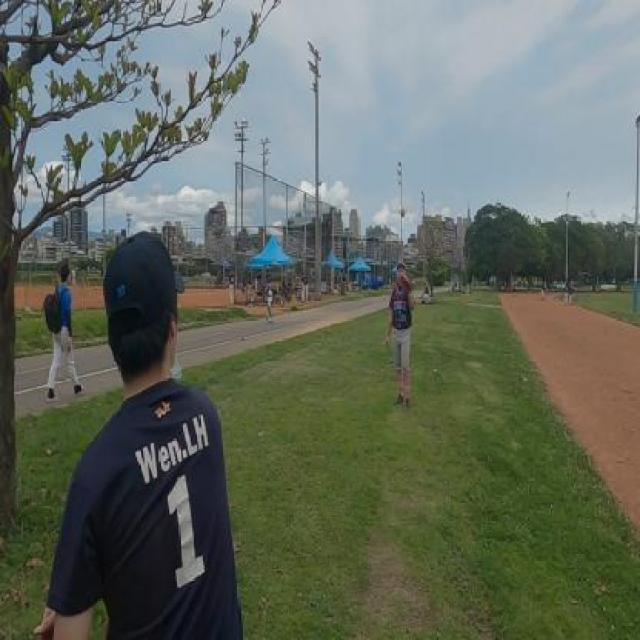baseball: (399, 206, 406, 217)
